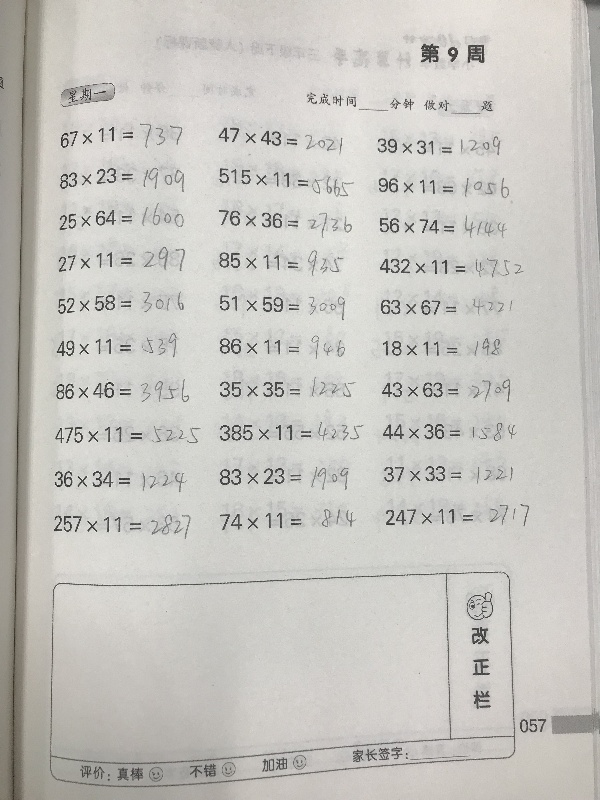equation: (216, 163, 353, 199), (382, 500, 534, 530), (215, 207, 356, 239), (216, 461, 352, 494), (216, 246, 347, 280), (54, 242, 188, 275), (51, 375, 193, 406), (214, 122, 346, 155), (215, 291, 348, 323), (216, 504, 361, 533), (48, 465, 193, 494), (52, 509, 197, 538), (215, 372, 359, 401), (57, 120, 187, 152), (58, 164, 188, 196), (56, 204, 186, 236), (216, 332, 350, 363), (378, 376, 515, 406), (216, 418, 367, 445), (376, 255, 527, 282), (54, 329, 181, 361), (375, 174, 514, 203), (51, 421, 203, 447), (376, 212, 511, 241), (54, 288, 187, 317), (379, 419, 521, 446), (380, 459, 517, 486), (374, 133, 505, 159), (377, 295, 513, 319), (379, 333, 504, 359)
